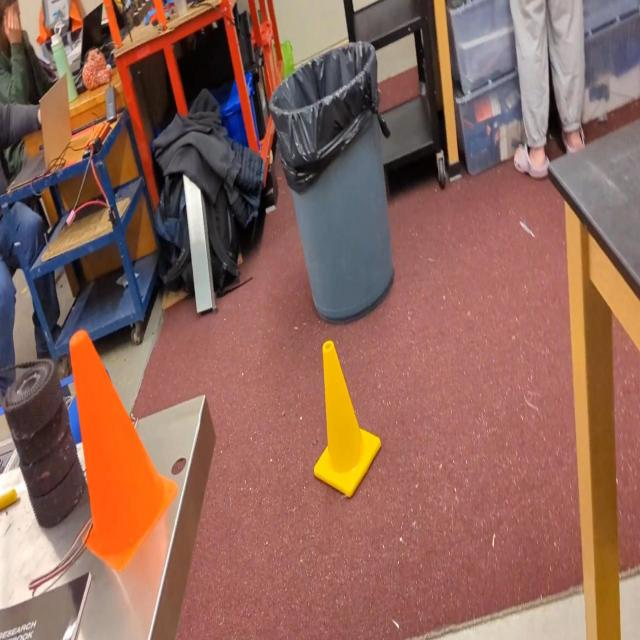frc_cone: (315, 338, 381, 498)
